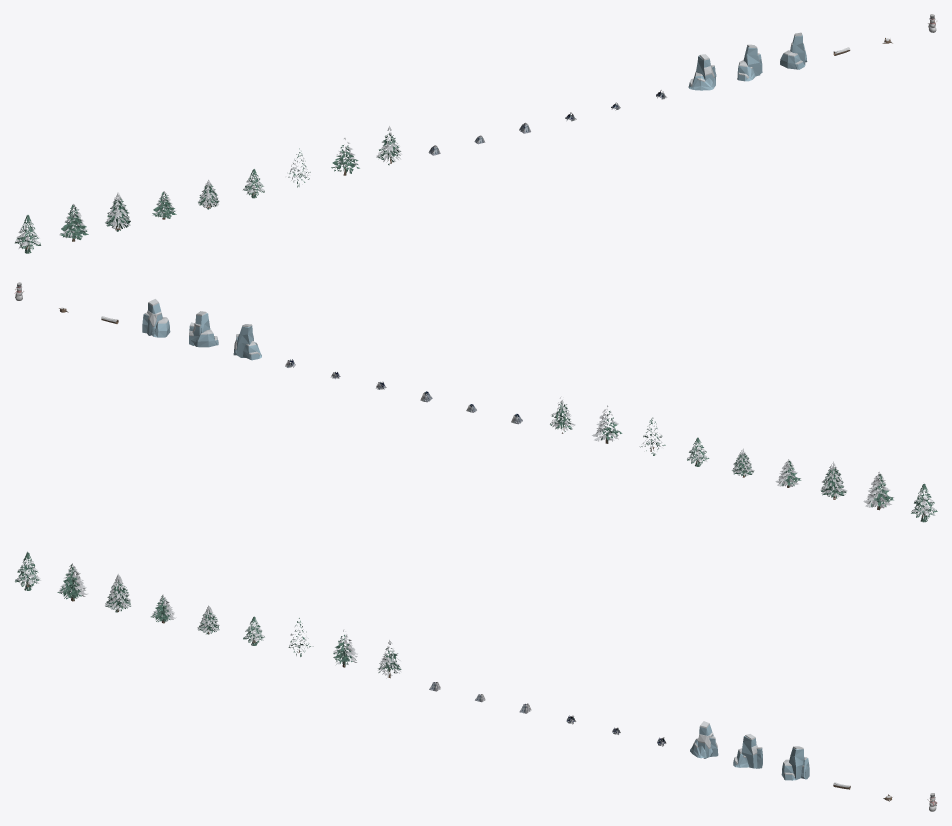
File: obstacles.glb
The picture shows the model from 3 angles, top to bottom: view 1: azimuth 30°, elevation 25°; view 2: azimuth 150°, elevation 25°; view 3: azimuth 330°, elevation 25°; orthographic projection.
Parts seen in each view (by area): view 1: ice_0, ice_1, ice_2, fir_tall_1, fir_tall_2, fir_tall_0; view 2: ice_2, ice_1, ice_0, fir_tall_1, fir_tall_2, fir_tall_0; view 3: ice_1, ice_2, ice_0, fir_tall_1, fir_tall_2.
Boxes of the visible parts, x1,y1,x2,y2 form: ice_0: (688,54,716,90); ice_1: (737,44,762,81); ice_2: (780,32,807,69); fir_tall_1: (59,204,88,241); fir_tall_2: (105,192,130,231); fir_tall_0: (14,215,40,253); ice_2: (142,299,170,337); ice_1: (189,311,218,347); ice_0: (233,324,261,360); fir_tall_1: (863,472,894,510); fir_tall_2: (820,461,847,499); fir_tall_0: (911,483,937,522); ice_1: (733,734,762,768); ice_2: (781,746,809,780); ice_0: (690,721,718,758); fir_tall_1: (57,563,88,601); fir_tall_2: (105,574,131,612).
Size of the model in its own units: 163 by 6.56 by 5.21.
